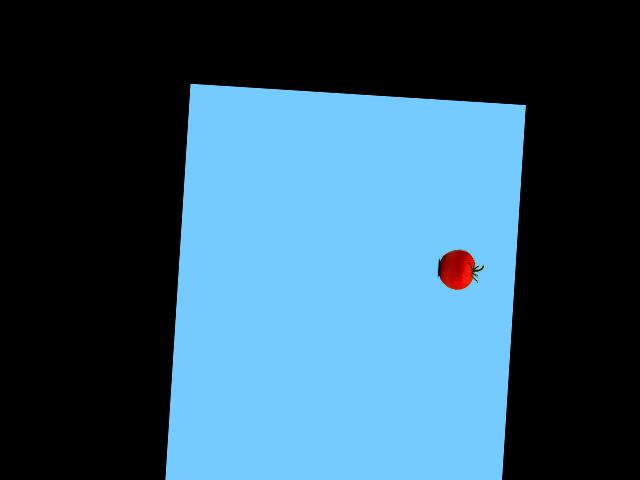tomato: (438, 249, 475, 291)
